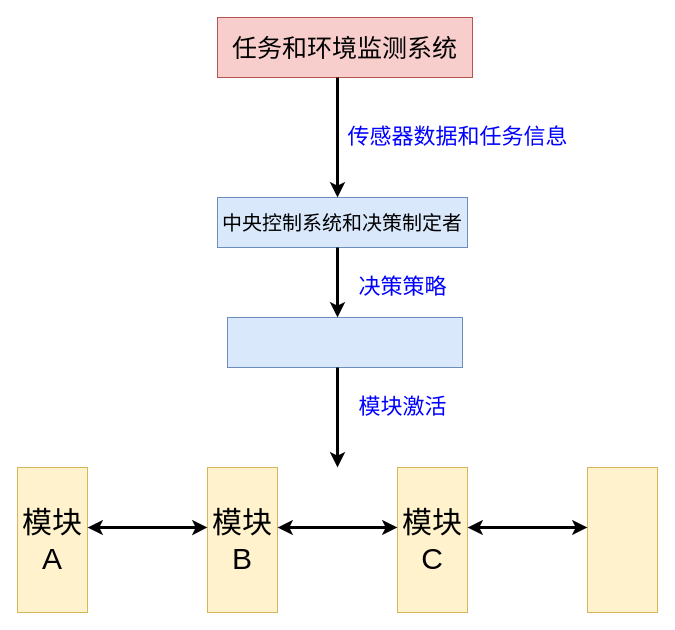
Some shapes in this 675 by 630 pixel diagram are drawn without their labels. Each missing label, with the box of its shape:
模块 D: (586, 466, 658, 612)
远程虚拟化和控制服务器: (226, 316, 462, 368)
